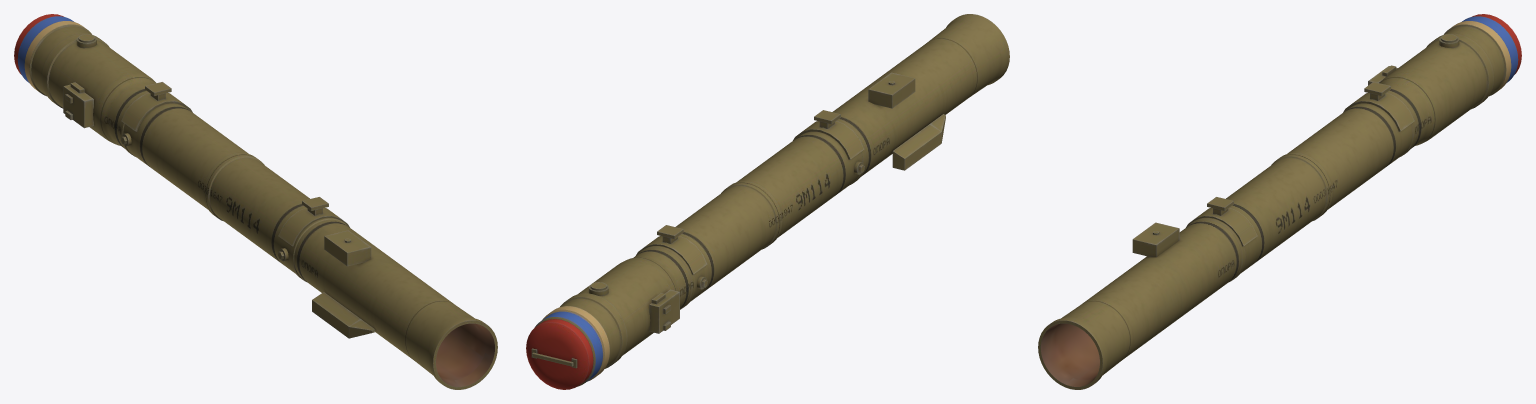
The model's file is tpk114.glb.
The picture shows the model from 3 angles, left to right: view 1: azimuth 30°, elevation 25°; view 2: azimuth 150°, elevation 25°; view 3: azimuth 330°, elevation 25°; orthographic projection.
Visible parts, largest first — view 1: TPK_body, TPK_fixed; view 2: TPK_body, TPK_fixed, cap; view 3: TPK_body, TPK_fixed.
Boxes of the visible parts, bbox=[...] form: TPK_body: bbox=[17, 16, 497, 389]; TPK_fixed: bbox=[63, 34, 374, 338]; TPK_body: bbox=[534, 14, 1009, 386]; TPK_fixed: bbox=[588, 72, 945, 333]; cap: bbox=[526, 319, 593, 389]; TPK_body: bbox=[1038, 16, 1518, 389]; TPK_fixed: bbox=[1132, 34, 1459, 257].
Size of the model in its own units: 0.196 by 0.1925 by 1.84.
Materials: 4 (4 with a texture image).
